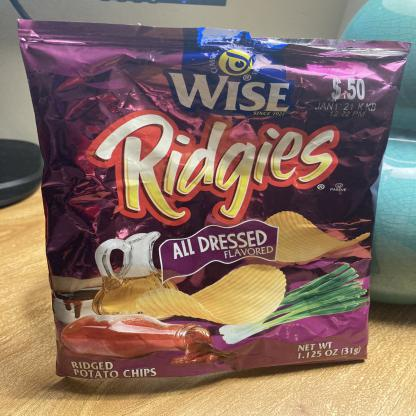potatochip: (0, 10, 416, 386)
